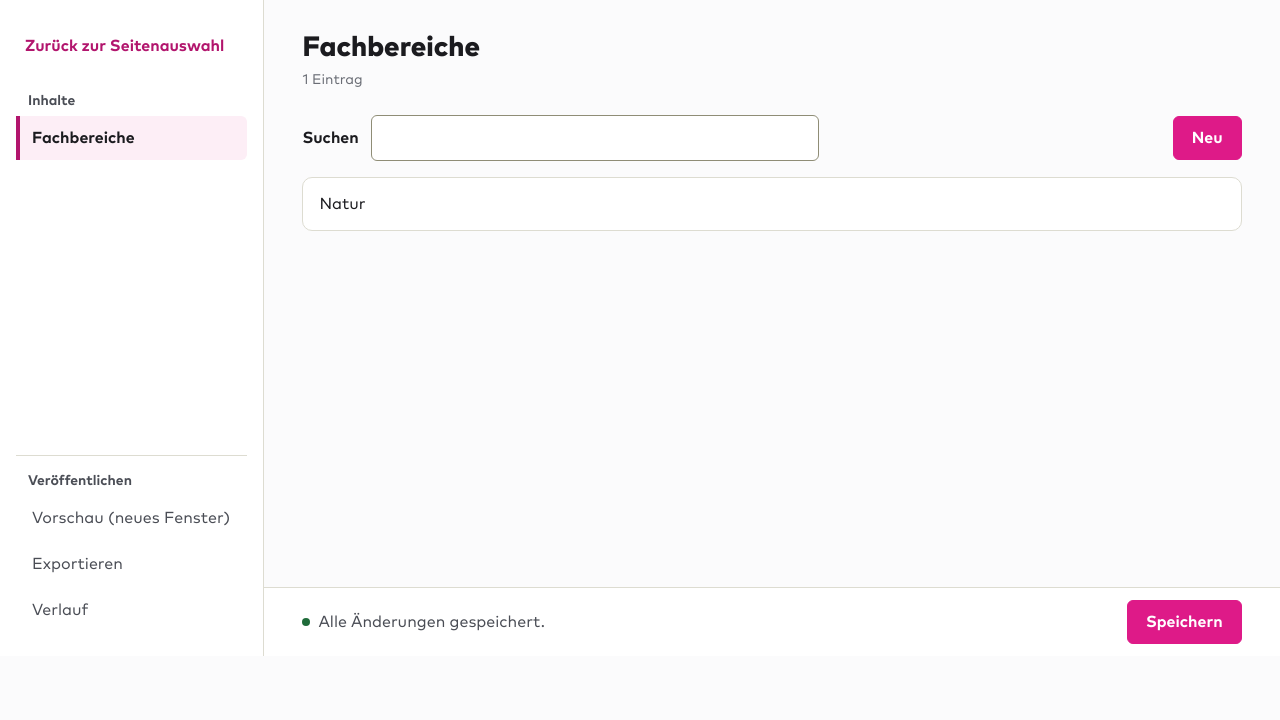
SiteEditor speichern › blockiert das Speichern bei Fehlern und nennt die Sammlung
This screenshot has width=1280, height=720.
Step 1. Click the button "Neu" → x=1207, y=138, box [1173,116,1242,160]
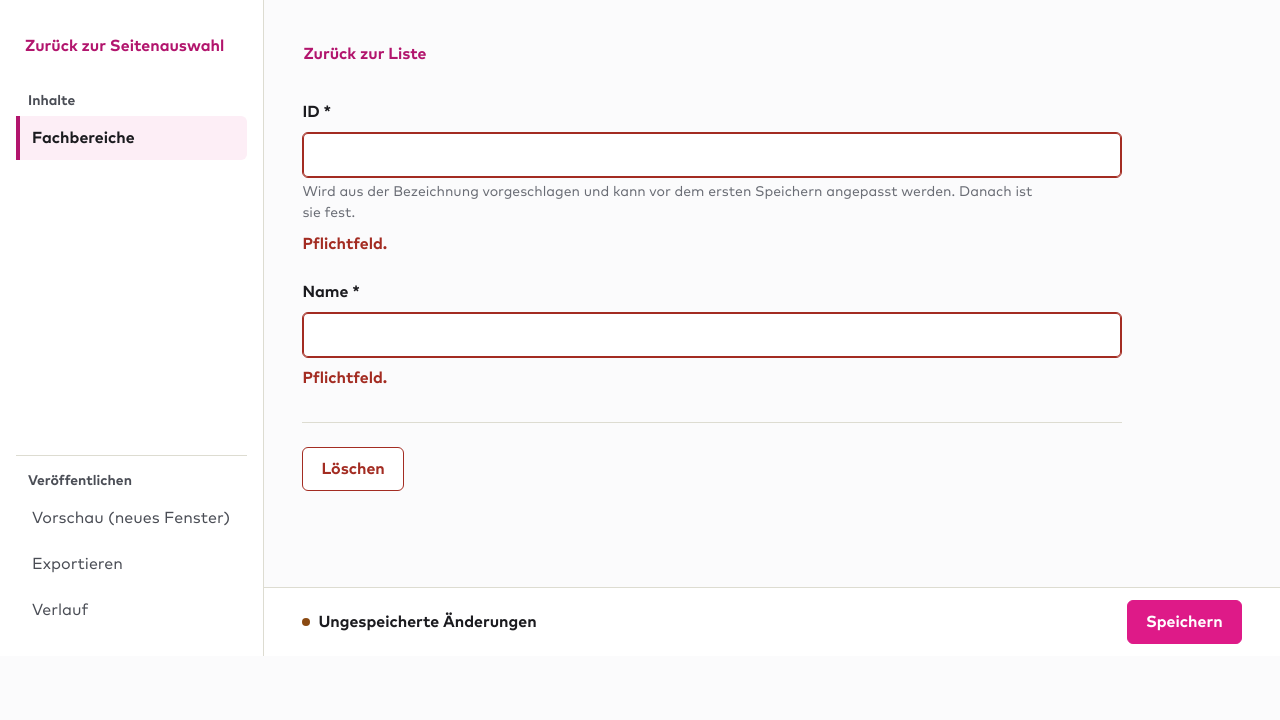
expect the text "Ungespeicherte Änderungen" is shown: met, box [318,614,537,630]
Step 2. Click the button "Speichern" → x=1184, y=622, box [1127,600,1242,644]
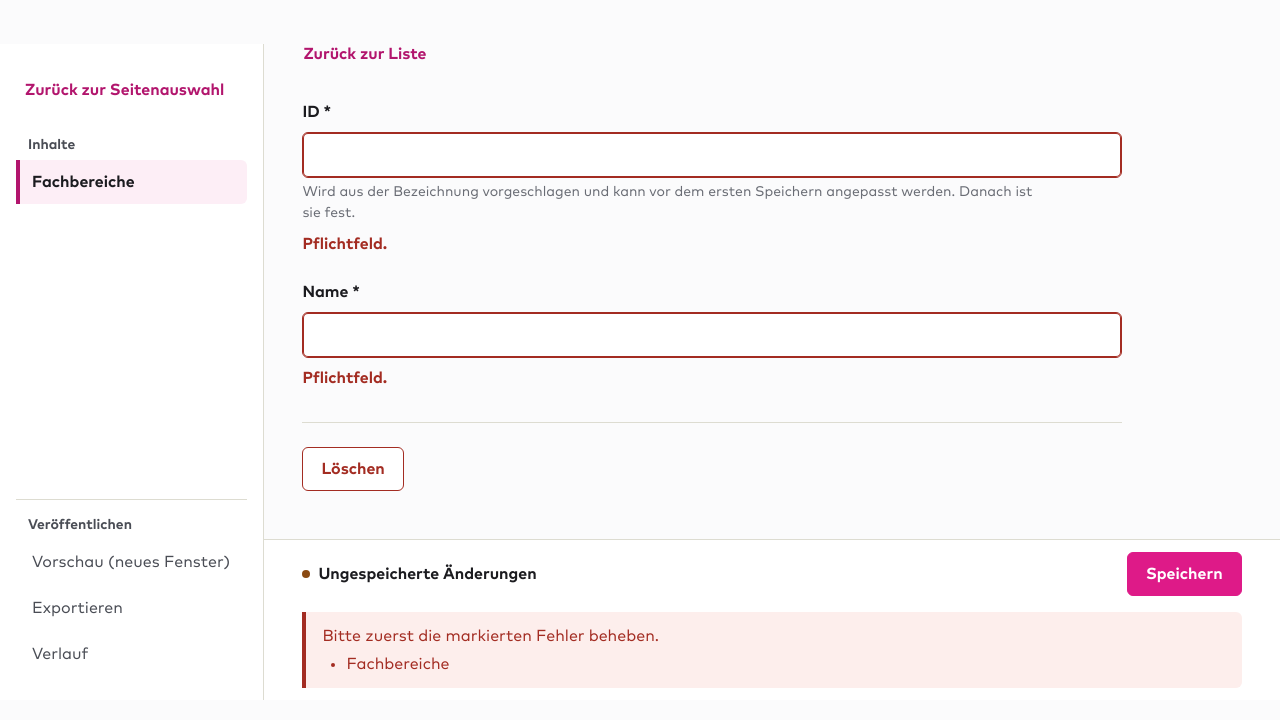
expect the message "Bitte zuerst die markierten Fehler beheben. Fachbereiche" is shown: met, box [302,612,1242,688]
